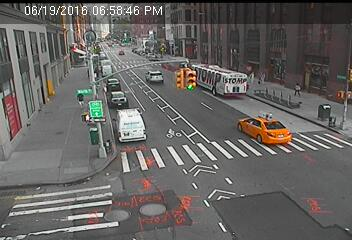neg: (326, 112, 339, 129), (93, 61, 104, 76), (158, 43, 169, 57), (317, 63, 326, 76)
pos: (292, 78, 305, 96), (74, 93, 86, 110)
